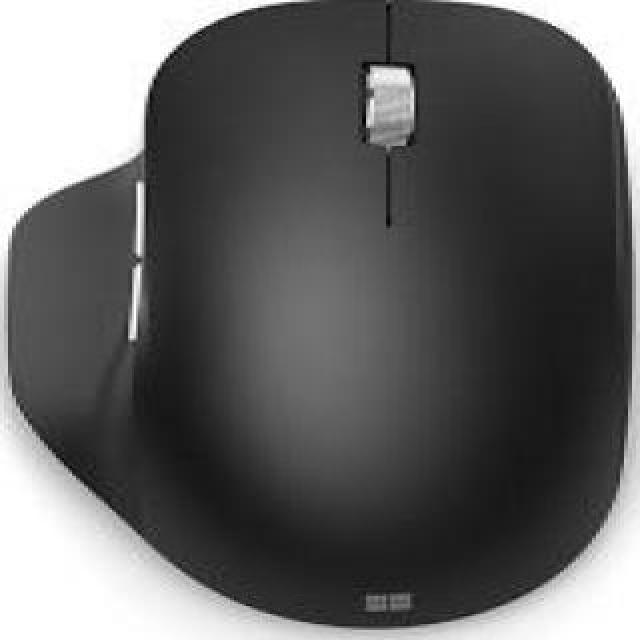mouse: (40, 16, 640, 636)
